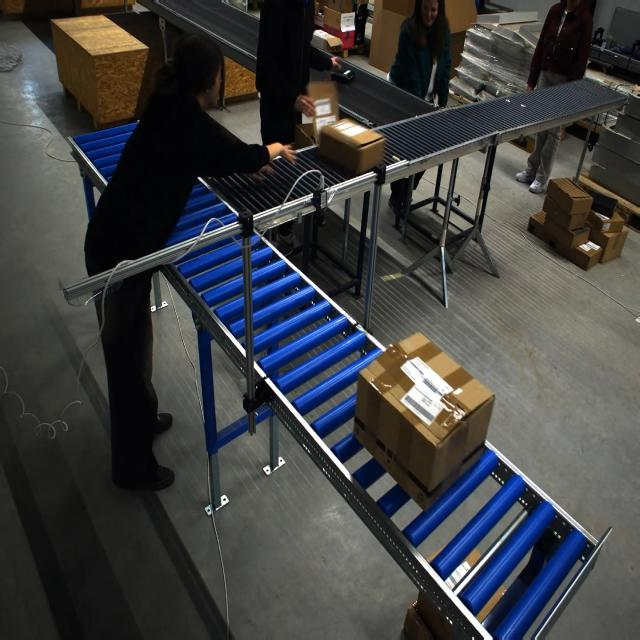box: (358, 342, 490, 502), (318, 117, 377, 176), (303, 81, 336, 138)
product: (331, 67, 354, 84)
